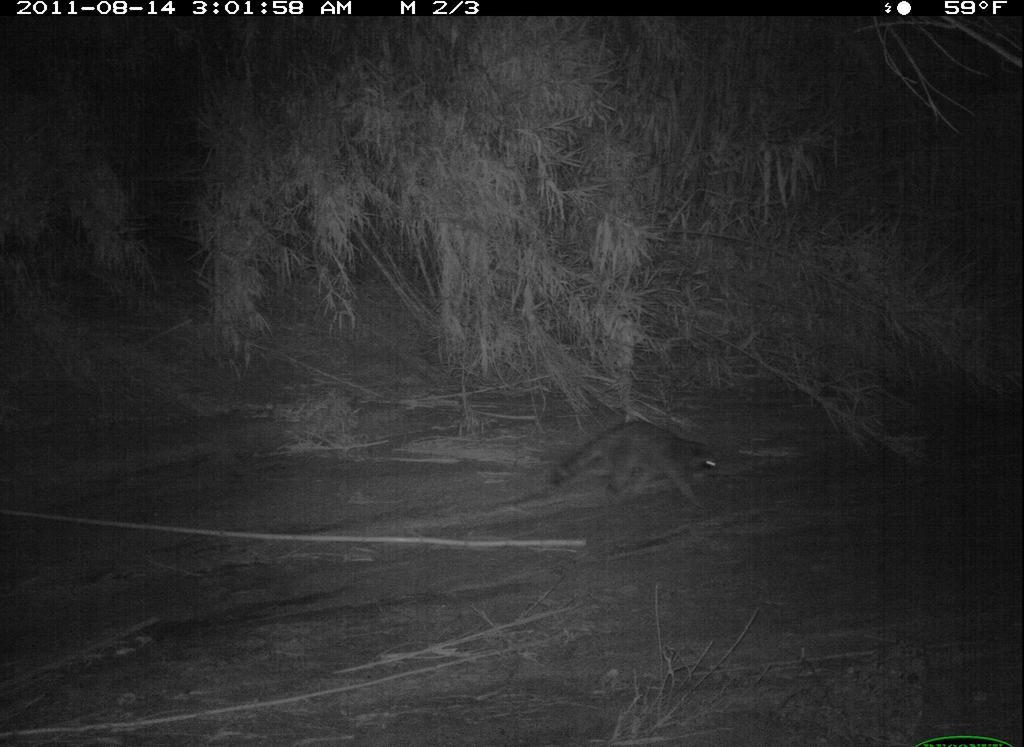raccoon: (546, 413, 730, 518)
